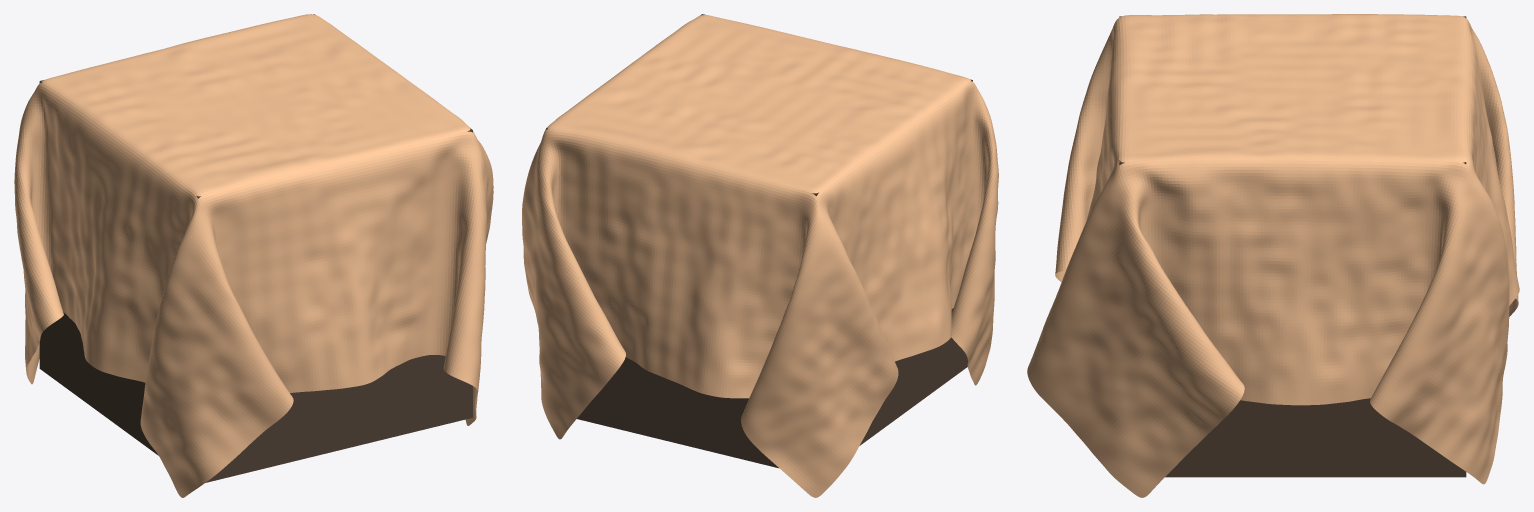
Rendered from crete.fbx.
3 renders of one model, left to right at view 1: azimuth 30°, elevation 25°; view 2: azimuth 150°, elevation 25°; view 3: azimuth 270°, elevation 25°, orthographic. The views are drawn at different scales.
Visible parts, largest first — view 1: Plane, Cube; view 2: Plane, Cube; view 3: Plane, Cube.
Part boxes in pixels (left/top/right/bottom): Plane: left=14, top=14, right=493, bottom=497; Cube: left=39, top=14, right=472, bottom=482; Plane: left=522, top=15, right=998, bottom=497; Cube: left=546, top=14, right=972, bottom=468; Plane: left=1027, top=14, right=1519, bottom=497; Cube: left=1119, top=16, right=1466, bottom=477.
Bounding box in the file's own units: 471 × 380 × 500.
